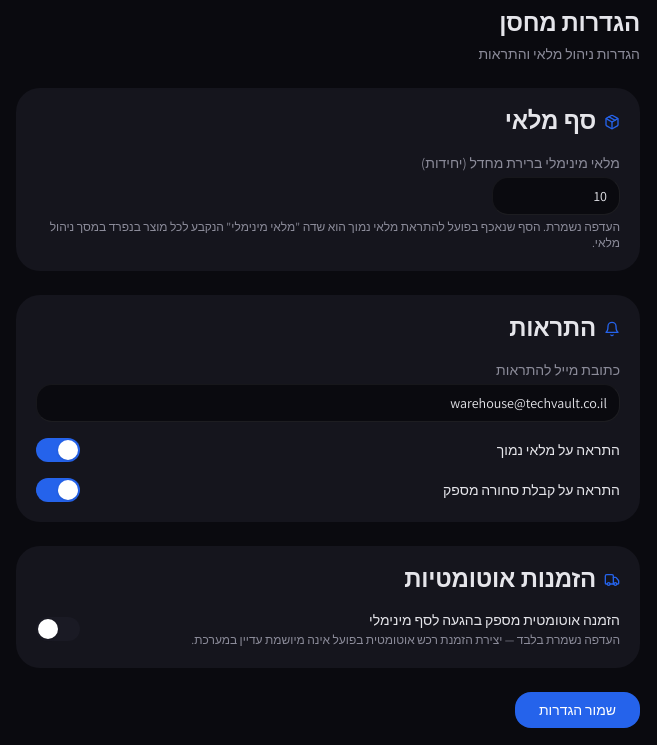
WarehouseSettingsPage — real persistence › the returned backend state becomes the displayed state after save
Expected: the number field showing "10" is shown, [492,177,620,215]
Click the button "שמור הגדרות": point(577, 710) [515,692,640,728]
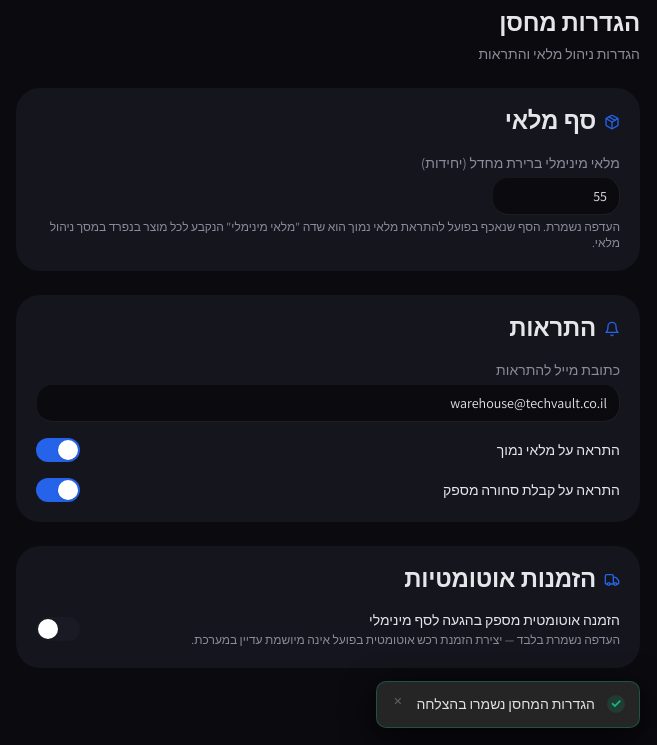
Expected: the number field showing "55" is shown, [492,177,620,215]
